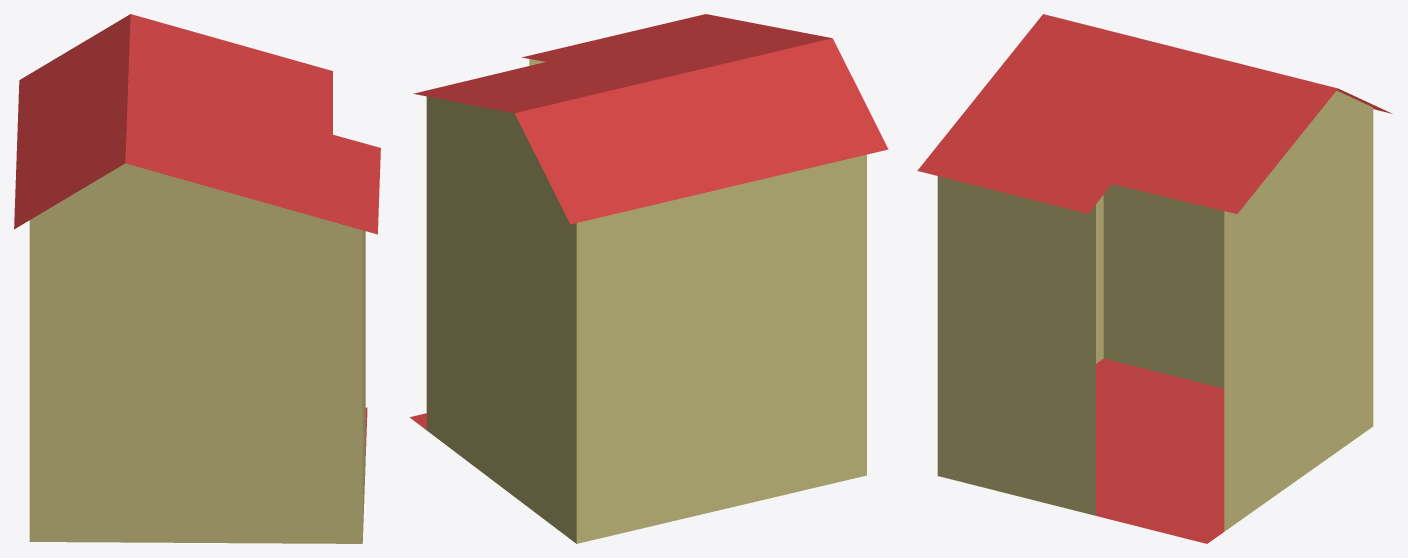
3 renders of one model, left to right at view 1: azimuth 30°, elevation 25°; view 2: azimuth 150°, elevation 25°; view 3: azimuth 270°, elevation 25°, orthographic. The views are drawn at different scales.
Parts seen in each view (by area): view 1: group_5, group_3, group_4; view 2: group_5, group_3; view 3: group_5, group_3, group_6, group_4.
Boxes of the visible parts, x1,y1,x2,y2 form: group_5: (29,163,365,543); group_3: (14,14,380,234); group_4: (133,15,380,214); group_5: (426,59,866,543); group_3: (413,14,888,224); group_5: (937,90,1373,531); group_3: (917,14,1392,213); group_6: (1096,358,1224,543); group_4: (959,87,1336,212).
Bounding box in the file's own units: 7.69 × 7.97 × 6.92.
